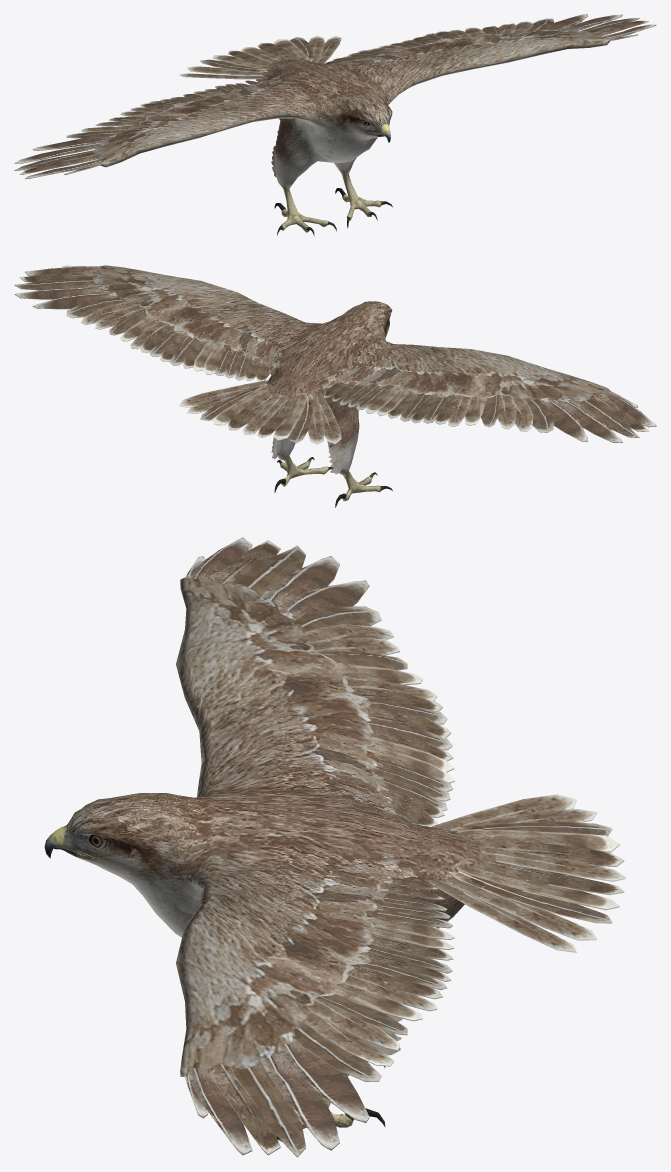
File: Hawk.fbx
3 views of the same model, one above another, from view 1: azimuth 30°, elevation 25°; view 2: azimuth 150°, elevation 25°; view 3: azimuth 270°, elevation 25° (orthographic). The views are drawn at different scales.
Parts seen in each view (by area): view 1: sm_1_0_0; view 2: sm_1_0_0; view 3: sm_1_0_0.
Boxes of the visible parts, left/top/right/bottom form: sm_1_0_0: left=14, top=14, right=656, bottom=235; sm_1_0_0: left=14, top=265, right=656, bottom=507; sm_1_0_0: left=44, top=537, right=625, bottom=1157.
Size of the model in its own units: 178 by 41.15 by 71.12.
1 material, 1 textured.
